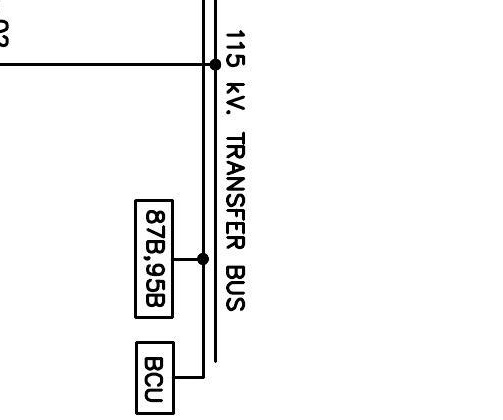BCU: (134, 340, 176, 416)
